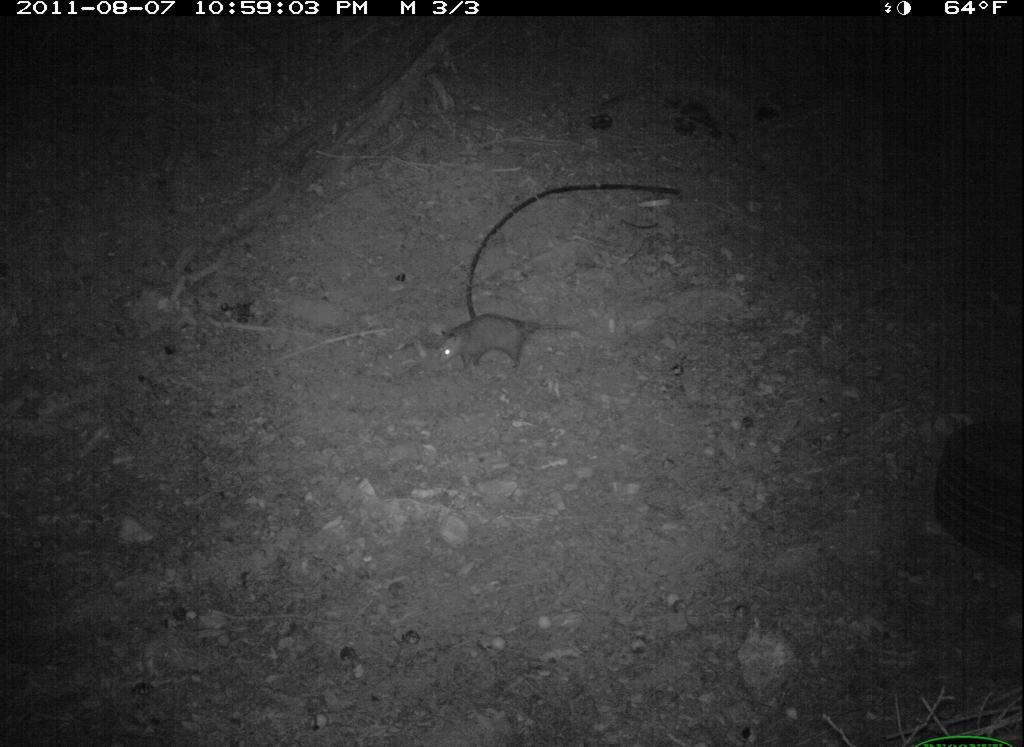opossum: (432, 301, 602, 391)
